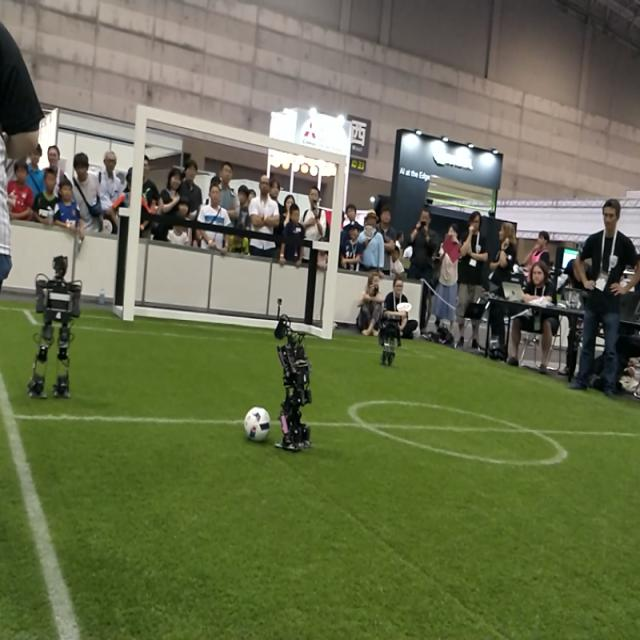ball: (243, 406, 272, 445)
goalpost: (122, 104, 150, 322), (321, 152, 346, 338)
